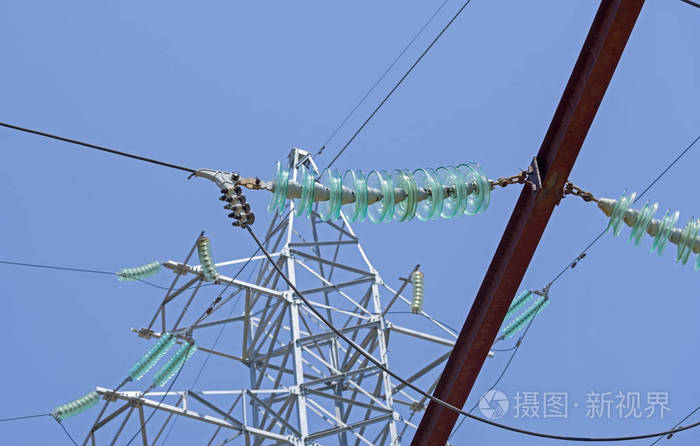insulator: (269, 159, 494, 221), (610, 189, 700, 266), (133, 332, 197, 389), (500, 292, 550, 339), (57, 391, 98, 419), (194, 235, 218, 280), (116, 260, 162, 282), (409, 269, 426, 314)
